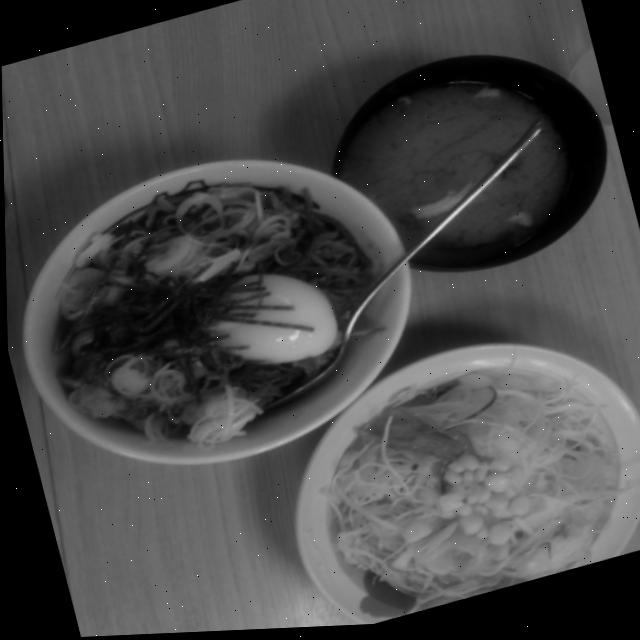汤锅炖物: (301, 28, 634, 302)
蔬菜料理: (258, 301, 640, 631)
